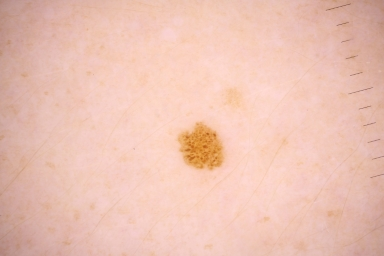nevus: (182, 122, 222, 165)
